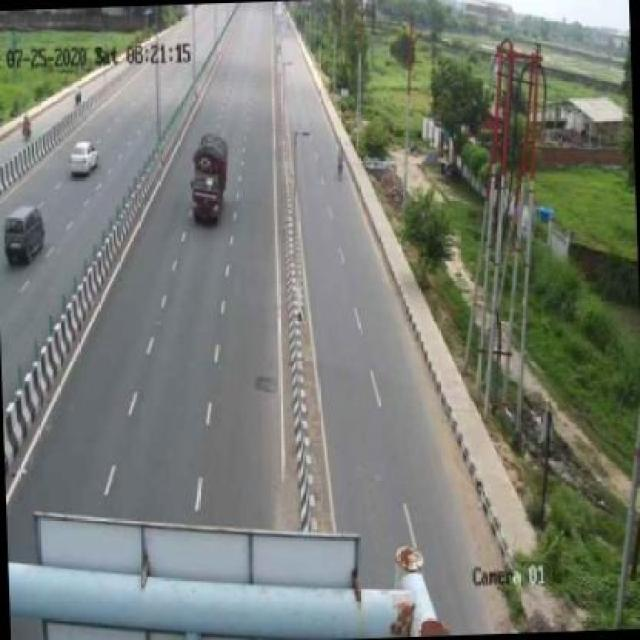car: (3, 198, 54, 270), (69, 140, 100, 178)
